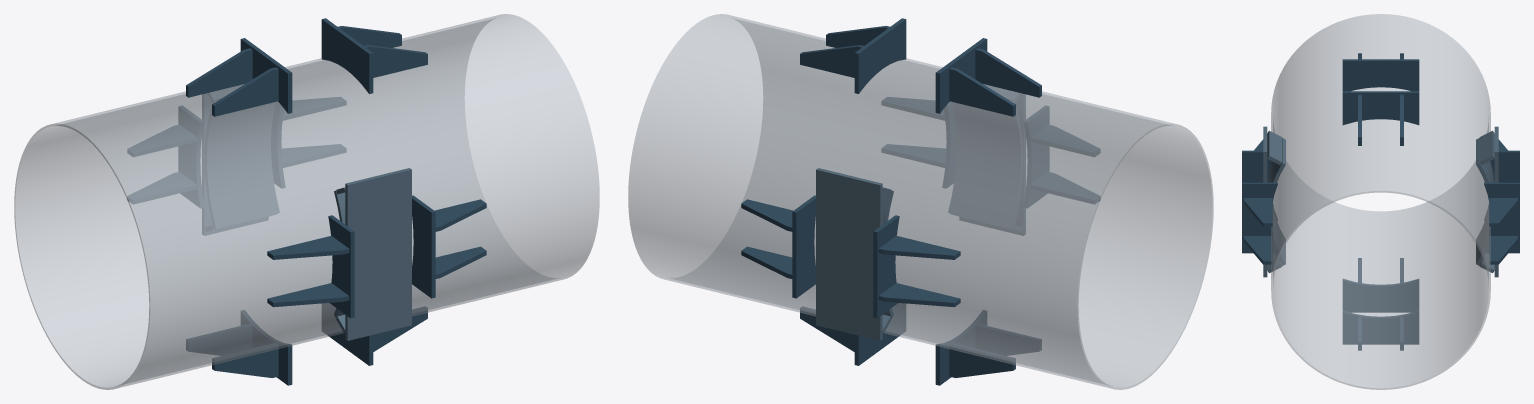
Rendered from TS-668.00.00-19-opora-dn920-ris2.glb.
3 renders of one model, left to right at view 1: azimuth 30°, elevation 25°; view 2: azimuth 150°, elevation 25°; view 3: azimuth 270°, elevation 25°, orthographic. The views are drawn at different scales.
Visible parts, largest first — view 1: truba, bok_26, bok_29, upor_7, upor_1, upor_10, upor_6, upor_5, upor_17, upor_22, upor_18, upor_3 (+15 smaller); view 2: truba, bok_30, bok_25, upor_19, upor_1, upor_22, upor_5, upor_6, upor_18, upor_10, upor_17, upor_2 (+15 smaller); view 3: truba, upor_4, upor_16, upor_1, upor_13, upor_7, upor_19, upor_10, upor_22, bok_25, bok_29, upor_9 (+7 smaller).
Boxes of the visible parts, left/top/right/bottom form: truba: left=14, top=14, right=599, bottom=389; bok_26: left=345, top=168, right=411, bottom=340; bok_29: left=205, top=100, right=279, bottom=228; upor_7: left=412, top=195, right=435, bottom=298; upor_1: left=321, top=18, right=373, bottom=93; upor_10: left=328, top=215, right=354, bottom=318; upor_6: left=212, top=67, right=278, bottom=116; upor_5: left=186, top=48, right=252, bottom=97; upor_17: left=212, top=343, right=278, bottom=377; upor_22: left=178, top=106, right=203, bottom=207; upor_18: left=186, top=324, right=252, bottom=355; upor_3: left=364, top=45, right=427, bottom=77; truba: left=628, top=14, right=1213, bottom=389; bok_30: left=816, top=168, right=882, bottom=340; bok_25: left=948, top=100, right=1022, bottom=228; upor_19: left=792, top=195, right=815, bottom=298; upor_1: left=854, top=18, right=906, bottom=93; upor_22: left=873, top=215, right=899, bottom=318; upor_5: left=949, top=67, right=1015, bottom=116; upor_6: left=975, top=48, right=1041, bottom=97; upor_18: left=949, top=343, right=1015, bottom=377; upor_10: left=1024, top=106, right=1049, bottom=207; upor_17: left=975, top=324, right=1041, bottom=355; upor_2: left=800, top=45, right=863, bottom=77; truba: left=1271, top=14, right=1490, bottom=389; upor_4: left=1342, top=59, right=1419, bottom=91; upor_16: left=1342, top=279, right=1419, bottom=312; upor_1: left=1342, top=91, right=1419, bottom=125; upor_13: left=1342, top=310, right=1419, bottom=344; upor_7: left=1242, top=182, right=1277, bottom=253; upor_19: left=1484, top=182, right=1519, bottom=253; upor_10: left=1242, top=150, right=1277, bottom=220; upor_22: left=1484, top=150, right=1519, bottom=220; bok_25: left=1267, top=138, right=1285, bottom=265; bok_29: left=1476, top=138, right=1494, bottom=265; upor_9: left=1244, top=236, right=1272, bottom=264.
Bounding box in the file's own units: 1752 × 1163 × 1163.
